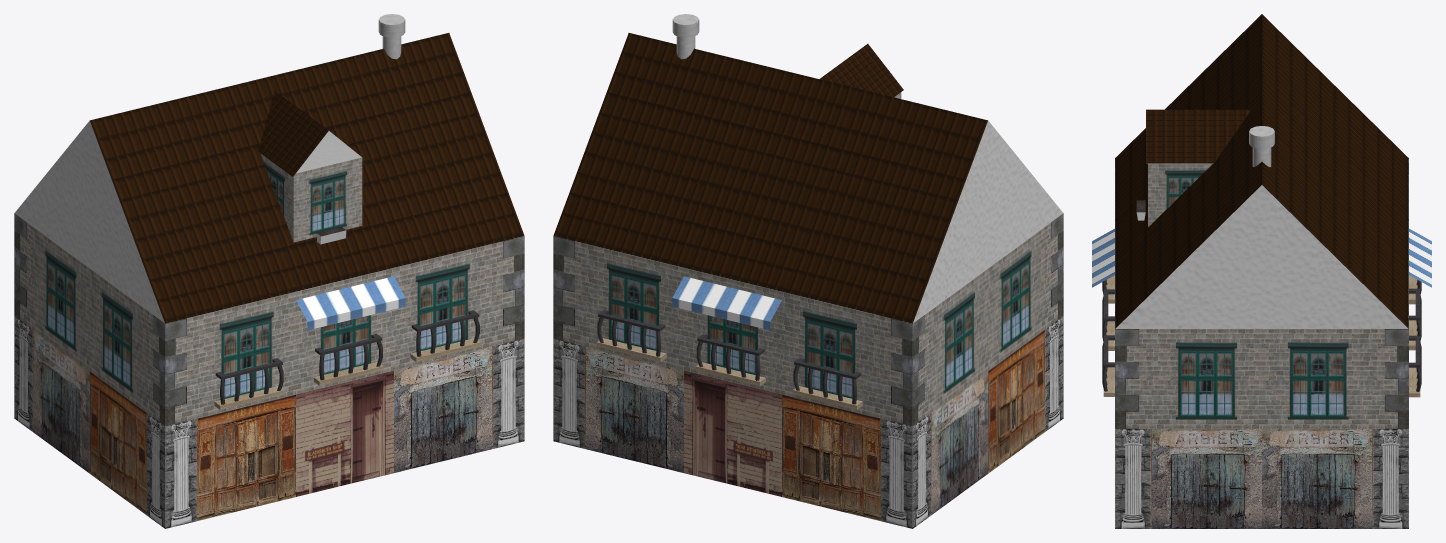
The model's file is House_003.dae.
The picture shows the model from 3 angles, left to right: view 1: azimuth 30°, elevation 25°; view 2: azimuth 150°, elevation 25°; view 3: azimuth 270°, elevation 25°; orthographic projection. The views are drawn at different scales.
Visible parts, largest first — view 1: House_003; view 2: House_003; view 3: House_003.
Part boxes in pixels (box(x1,y1,x2,y2)): House_003: box(14, 14, 524, 528); House_003: box(553, 14, 1063, 528); House_003: box(1092, 14, 1431, 528).
Size of the model in its own units: 88 by 74 by 89.
